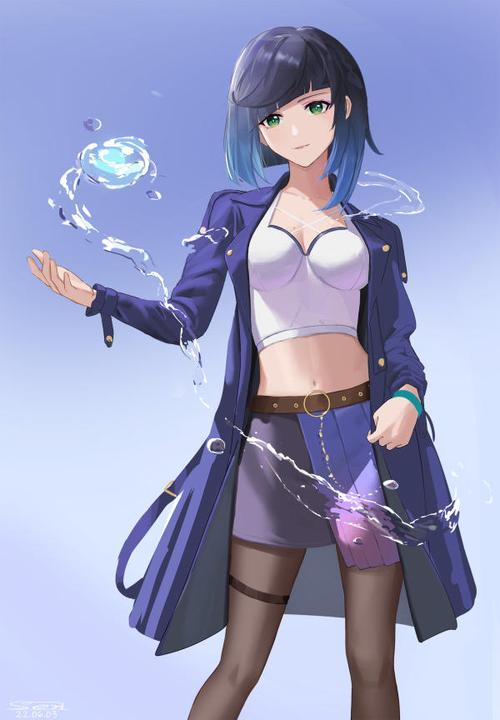夜兰: (23, 28, 426, 720)
